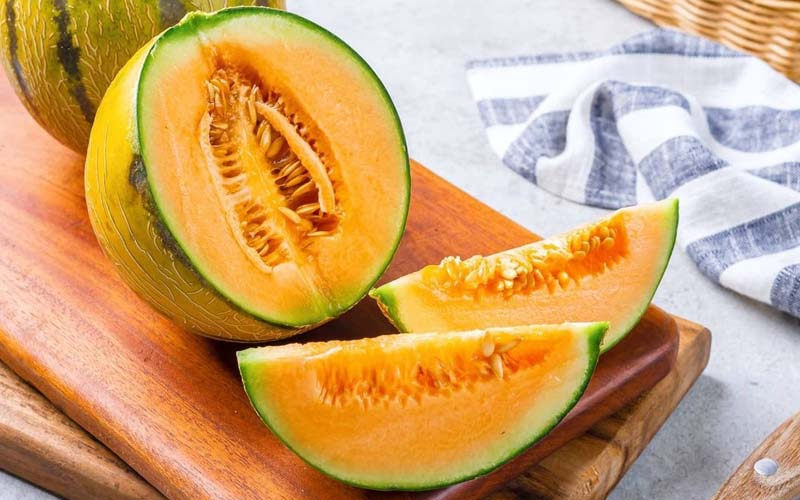Melon: (218, 306, 622, 500), (369, 167, 708, 350)
